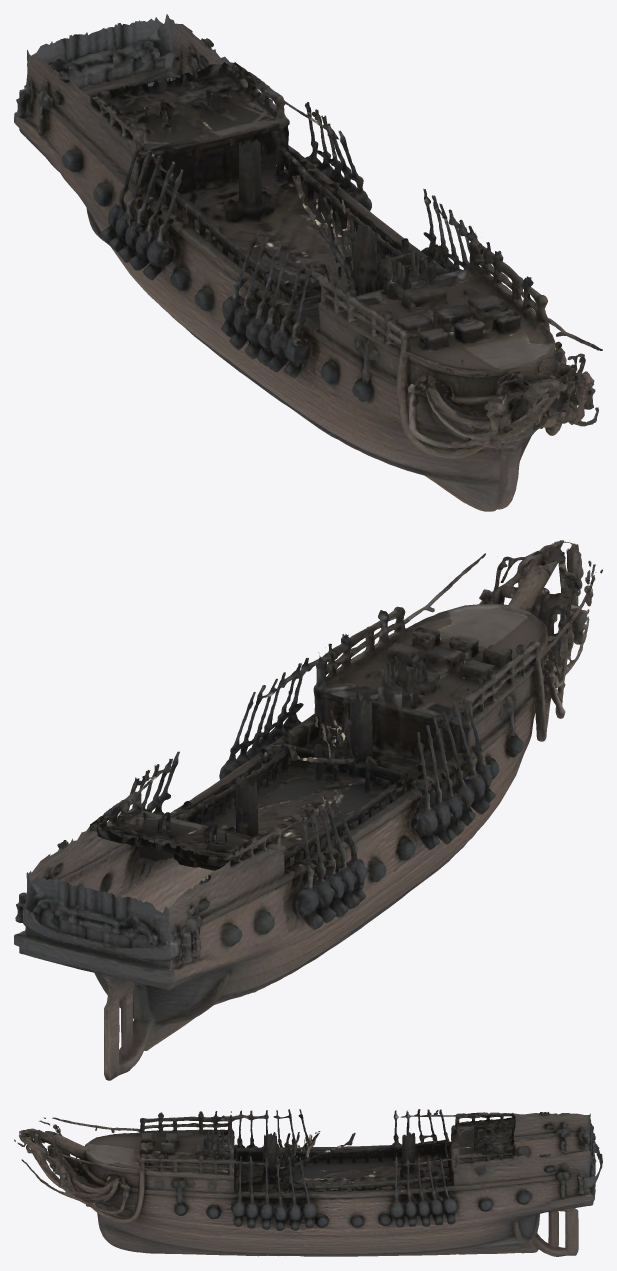
Rendered from galleon-lite.glb.
The picture shows the model from 3 angles, top to bottom: view 1: azimuth 30°, elevation 25°; view 2: azimuth 150°, elevation 25°; view 3: azimuth 270°, elevation 25°; orthographic projection. The views are drawn at different scales.
Parts seen in each view (by area): view 1: Object_4; view 2: Object_4; view 3: Object_4.
Boxes of the visible parts, box(x1,y1,x2,y2) form: Object_4: box(14, 14, 602, 511); Object_4: box(14, 540, 602, 1080); Object_4: box(14, 1109, 602, 1256).
Size of the model in its own units: 15.98 by 13.5 by 58.96.
Materials: 1 (1 with a texture image).
